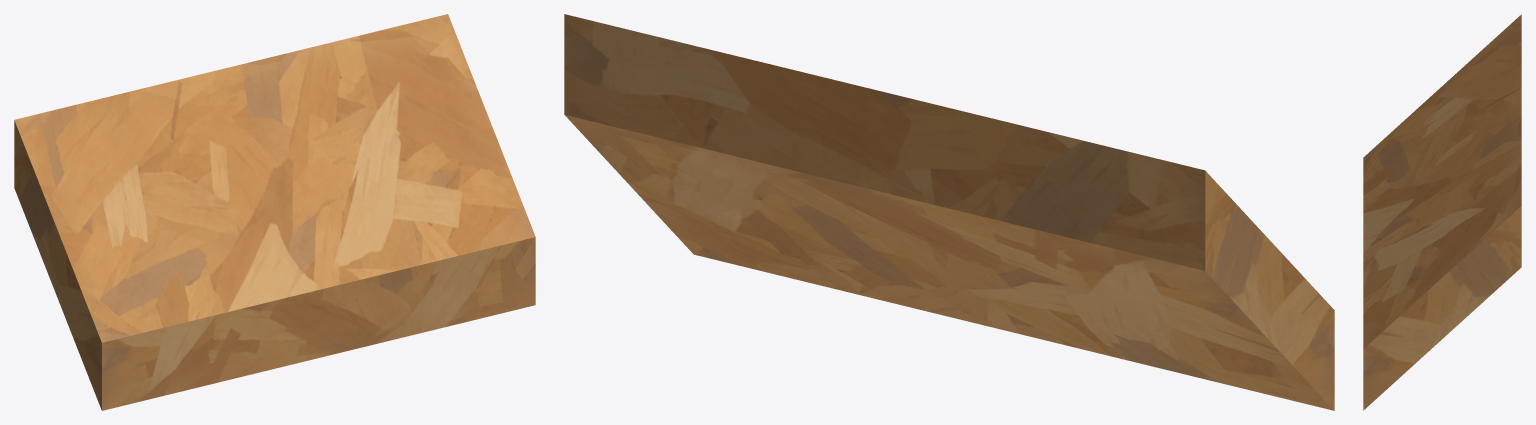
Rendered from RoofEave.fbx.
The picture shows the model from 3 angles, left to right: view 1: azimuth 30°, elevation 25°; view 2: azimuth 150°, elevation 25°; view 3: azimuth 270°, elevation 25°; orthographic projection. The views are drawn at different scales.
Visible parts, largest first — view 1: RoofEave; view 2: RoofEave; view 3: RoofEave.
Boxes of the visible parts, <box> form: RoofEave: <box>14,14,535,410</box>; RoofEave: <box>564,14,1334,410</box>; RoofEave: <box>1363,14,1521,410</box>.
Bounding box in the file's own units: 1 × 0.5 × 0.35.
